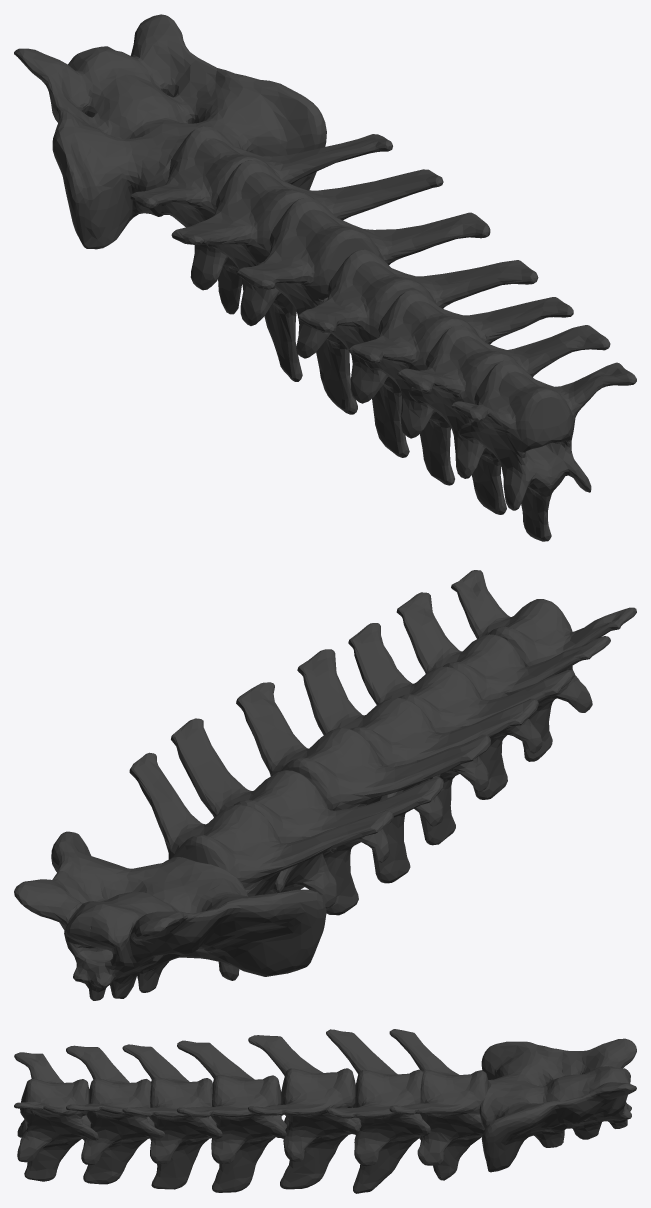
The model's file is b_lumbar_vertebra_sacrum.glb.
3 renders of one model, top to bottom at view 1: azimuth 30°, elevation 25°; view 2: azimuth 150°, elevation 25°; view 3: azimuth 270°, elevation 25°, orthographic. The views are drawn at different scales.
Parts seen in each view (by area): view 1: b_lumbar_vertebra_sacrum; view 2: b_lumbar_vertebra_sacrum; view 3: b_lumbar_vertebra_sacrum.
Part boxes in pixels (x1=…): b_lumbar_vertebra_sacrum: x1=14, y1=14, x2=636, y2=541; b_lumbar_vertebra_sacrum: x1=14, y1=570, x2=636, y2=1000; b_lumbar_vertebra_sacrum: x1=14, y1=1029, x2=636, y2=1193.
Bounding box in the file's own units: 0.0208 × 0.0153 × 0.0656.
1 material, 1 textured.
